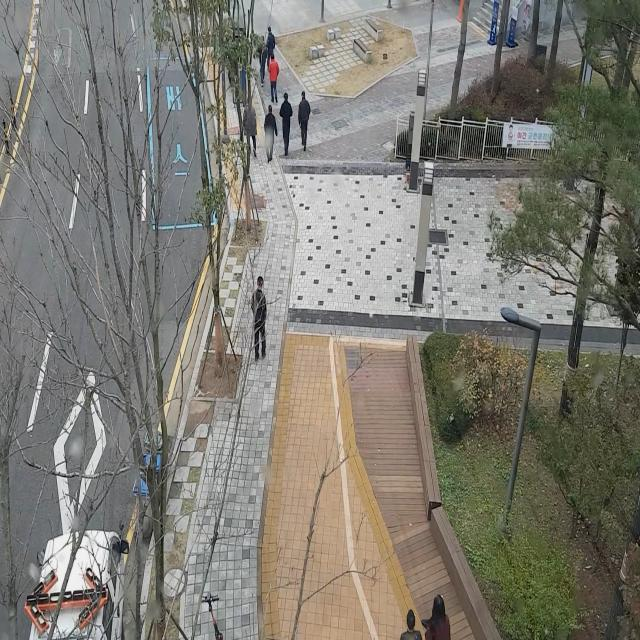Truck: (16, 507, 134, 640)
